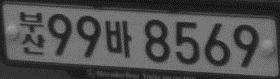5: (175, 20, 200, 65)
6: (204, 23, 230, 66)
8: (143, 19, 170, 62)
9: (233, 23, 260, 68), (47, 13, 72, 56), (77, 14, 101, 57)
바: (105, 20, 131, 58)
부산_V: (19, 10, 45, 55)
